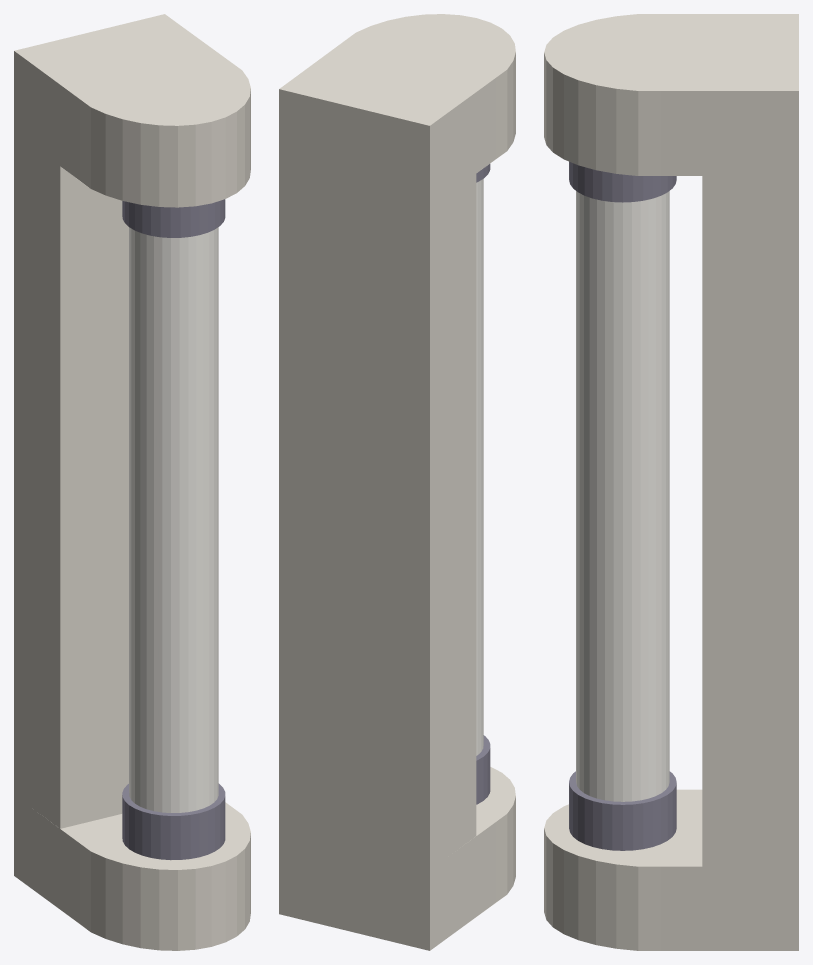
Rendered from boxlight.fbx.
3 renders of one model, left to right at view 1: azimuth 30°, elevation 25°; view 2: azimuth 150°, elevation 25°; view 3: azimuth 270°, elevation 25°, orthographic. The views are drawn at different scales.
Parts seen in each view (by area): view 1: BoxLight; view 2: BoxLight; view 3: BoxLight.
Boxes of the visible parts, x1,y1,x2,y2 form: BoxLight: [14, 14, 250, 950]; BoxLight: [279, 14, 515, 950]; BoxLight: [544, 14, 798, 950].
Bounding box in the file's own units: 32.86 × 171 × 45.93.
